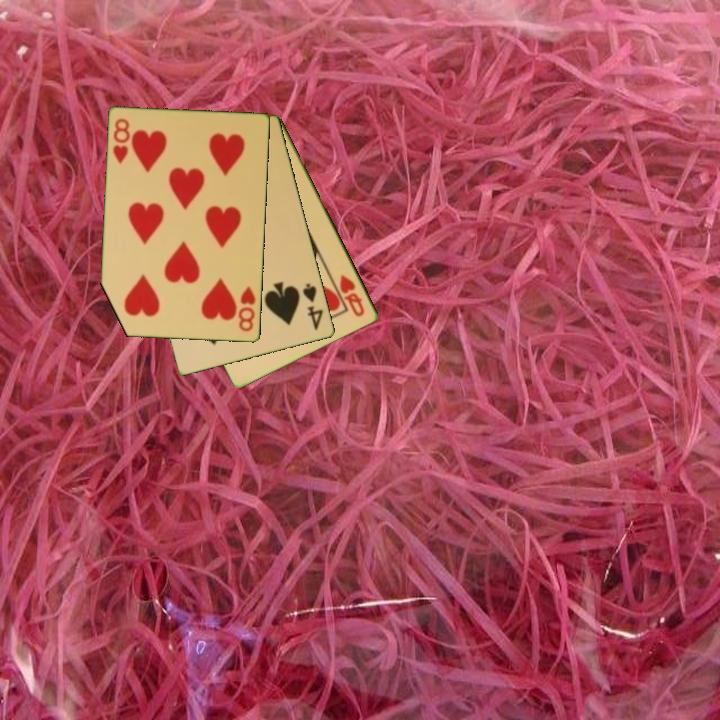4s: (299, 280, 326, 333)
8h: (235, 283, 259, 335), (110, 115, 133, 167)
Qh: (336, 271, 368, 320)
